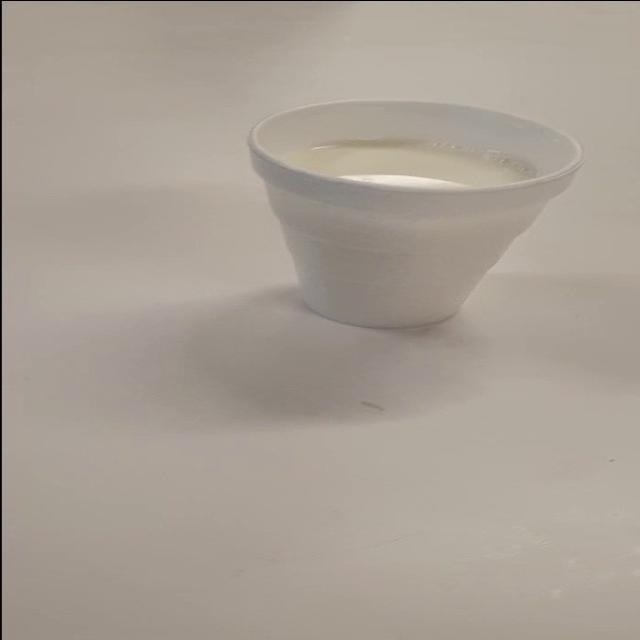Milk: (234, 72, 610, 368)
